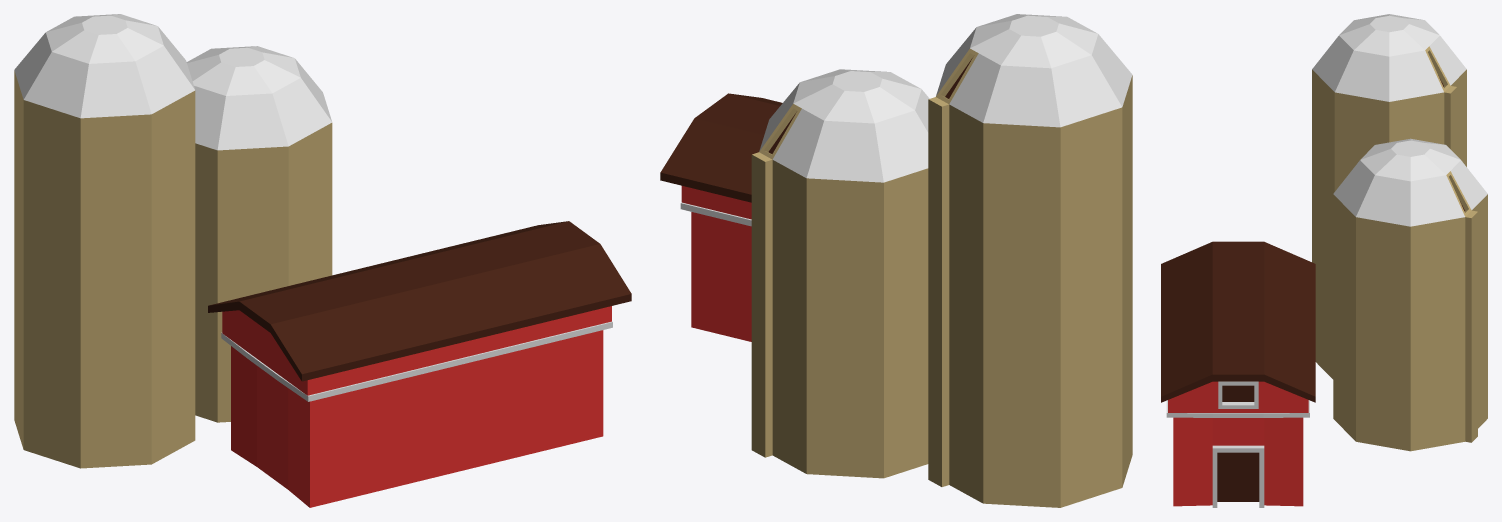
Rendered from Granero.fbx.
The picture shows the model from 3 angles, left to right: view 1: azimuth 30°, elevation 25°; view 2: azimuth 150°, elevation 25°; view 3: azimuth 270°, elevation 25°; orthographic projection. The views are drawn at different scales.
Visible parts, largest first — view 1: Granero; view 2: Granero; view 3: Granero.
Part boxes in pixels (left/top/right/bottom): Granero: left=14, top=14, right=631, bottom=507; Granero: left=660, top=14, right=1132, bottom=507; Granero: left=1161, top=14, right=1487, bottom=507.
Size of the model in its own units: 578 by 477 by 422.
